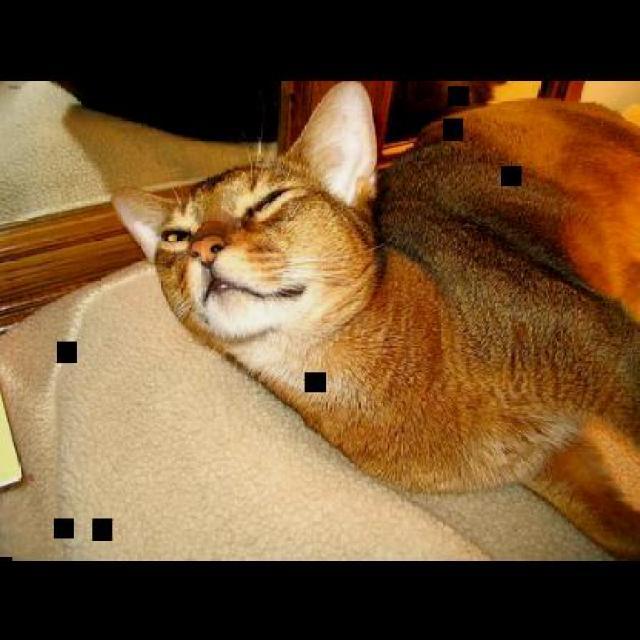unauthorized: (107, 77, 638, 560)
